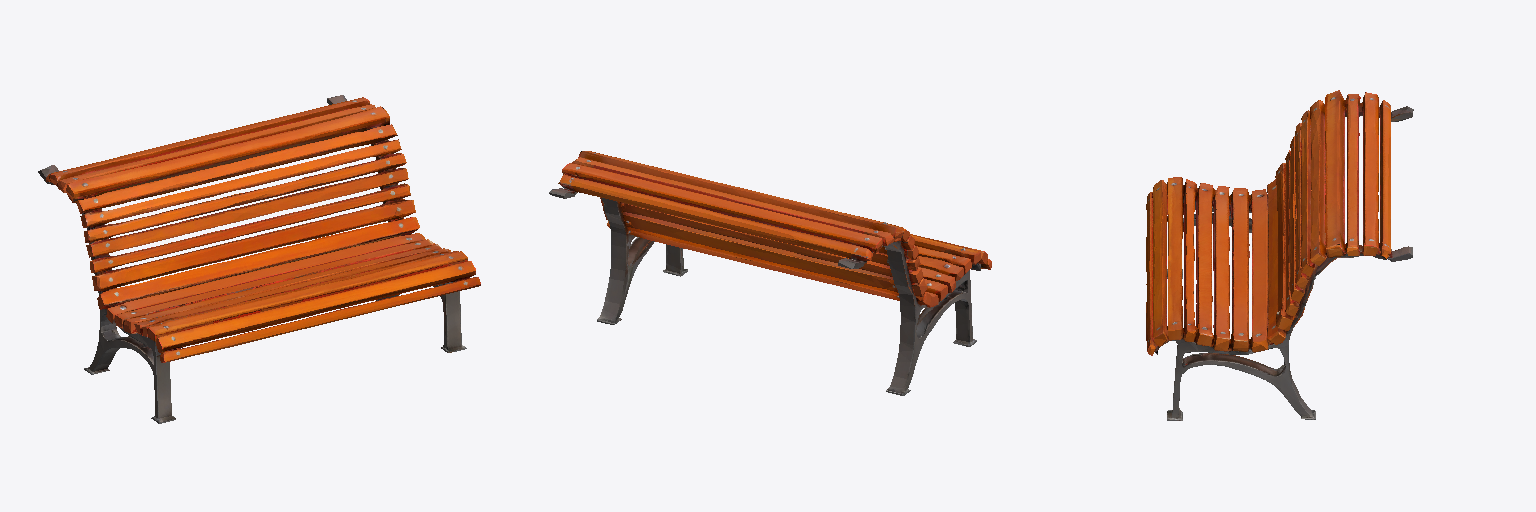
3 renders of one model, left to right at view 1: azimuth 30°, elevation 25°; view 2: azimuth 150°, elevation 25°; view 3: azimuth 270°, elevation 25°, orthographic.
Parts seen in each view (by area): view 1: panchina; view 2: panchina; view 3: panchina.
Boxes of the visible parts, x1=… form: panchina: x1=38, y1=95, x2=480, y2=423; panchina: x1=549, y1=151, x2=991, y2=395; panchina: x1=1146, y1=90, x2=1413, y2=420.
Bounding box in the file's own units: 2 × 1.07 × 1.45.
1 materials, 1 textured.